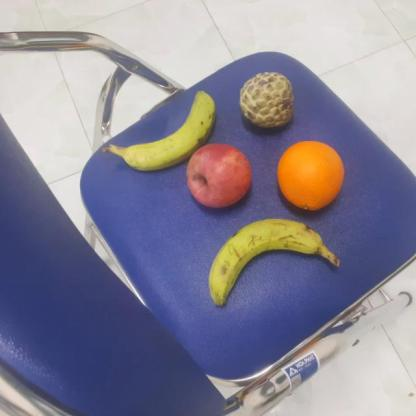annona: (237, 67, 296, 128)
apple: (185, 142, 256, 208)
banana: (204, 217, 336, 306), (119, 89, 221, 171)
orange: (272, 140, 345, 210)
